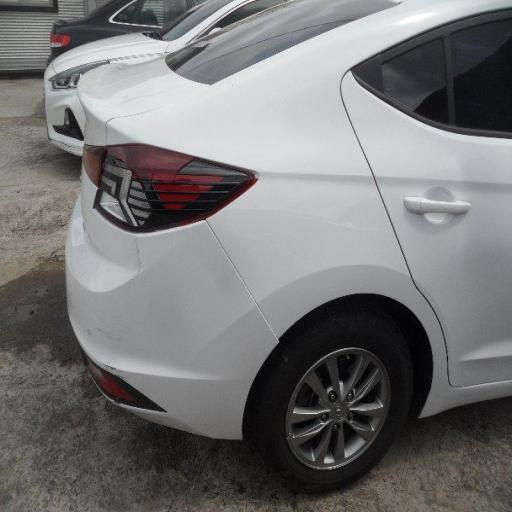dent: (66, 164, 186, 330)
